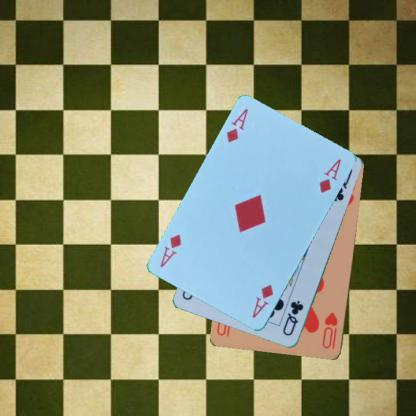10h: (320, 310, 339, 350)
Ad: (224, 106, 250, 144), (250, 282, 275, 320)
Qc: (280, 298, 305, 338)
